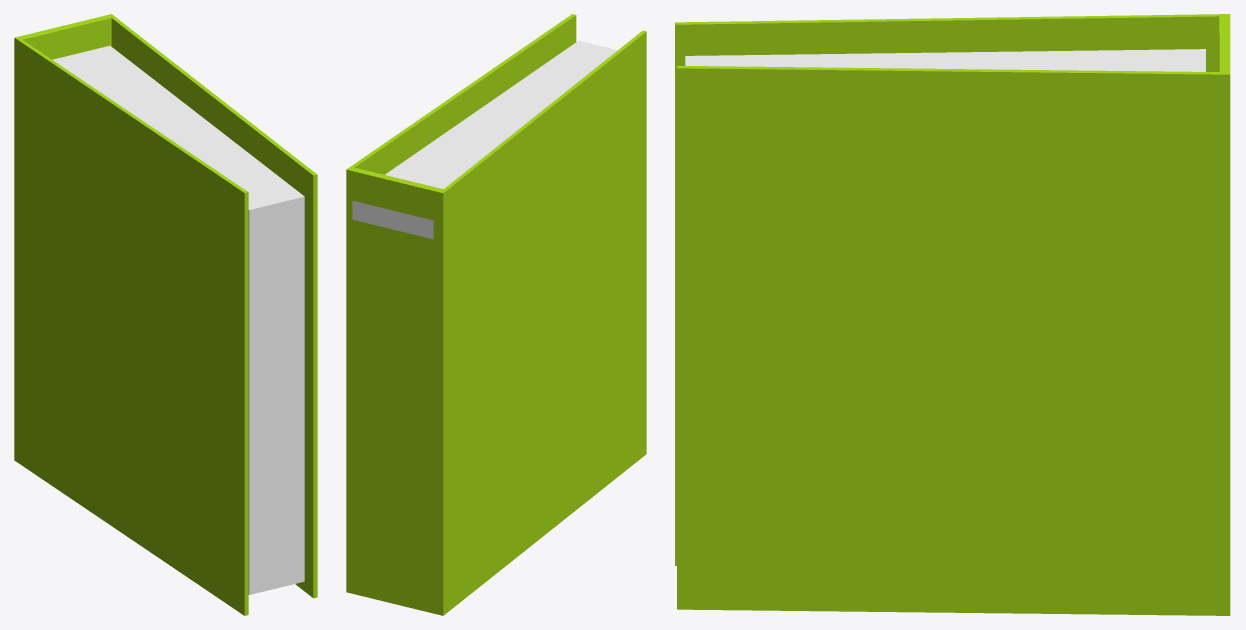
File: Binder_Green.FBX
3 views of the same model, side by side, from view 1: azimuth 30°, elevation 25°; view 2: azimuth 150°, elevation 25°; view 3: azimuth 270°, elevation 25° (orthographic). The views are drawn at different scales.
Parts seen in each view (by area): view 1: Binder_Green; view 2: Binder_Green; view 3: Binder_Green.
Boxes of the visible parts, x1,y1,x2,y2 form: Binder_Green: (14, 14, 317, 615); Binder_Green: (346, 14, 646, 615); Binder_Green: (675, 14, 1230, 615).
Bounding box in the file's own units: 0.1386 × 0.5764 × 0.5375.
